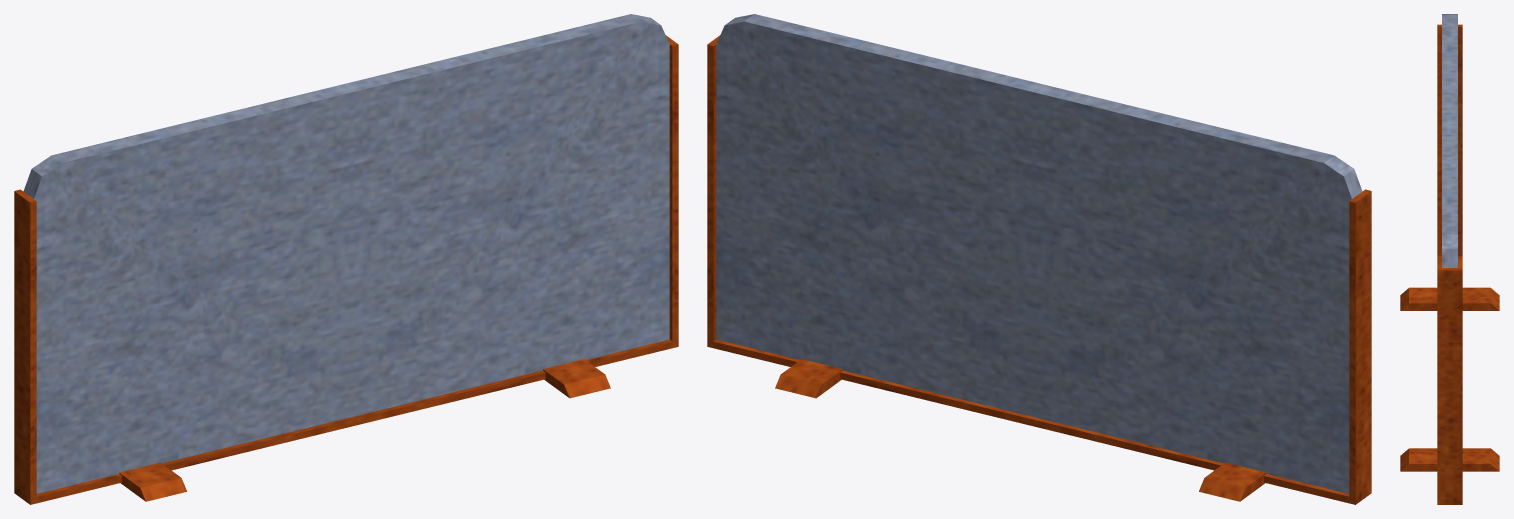
The model's file is divider_veneer_blue_low.obj.
The picture shows the model from 3 angles, left to right: view 1: azimuth 30°, elevation 25°; view 2: azimuth 150°, elevation 25°; view 3: azimuth 270°, elevation 25°; orthographic projection. The views are drawn at different scales.
Visible parts, largest first — view 1: divider_veneer_blue_low; view 2: divider_veneer_blue_low; view 3: divider_veneer_blue_low.
Part boxes in pixels (left/top/right/bottom): divider_veneer_blue_low: left=14, top=14, right=678, bottom=504; divider_veneer_blue_low: left=707, top=14, right=1371, bottom=504; divider_veneer_blue_low: left=1400, top=14, right=1499, bottom=504.
Size of the model in its own units: 3.06 by 1.5 by 0.523.
